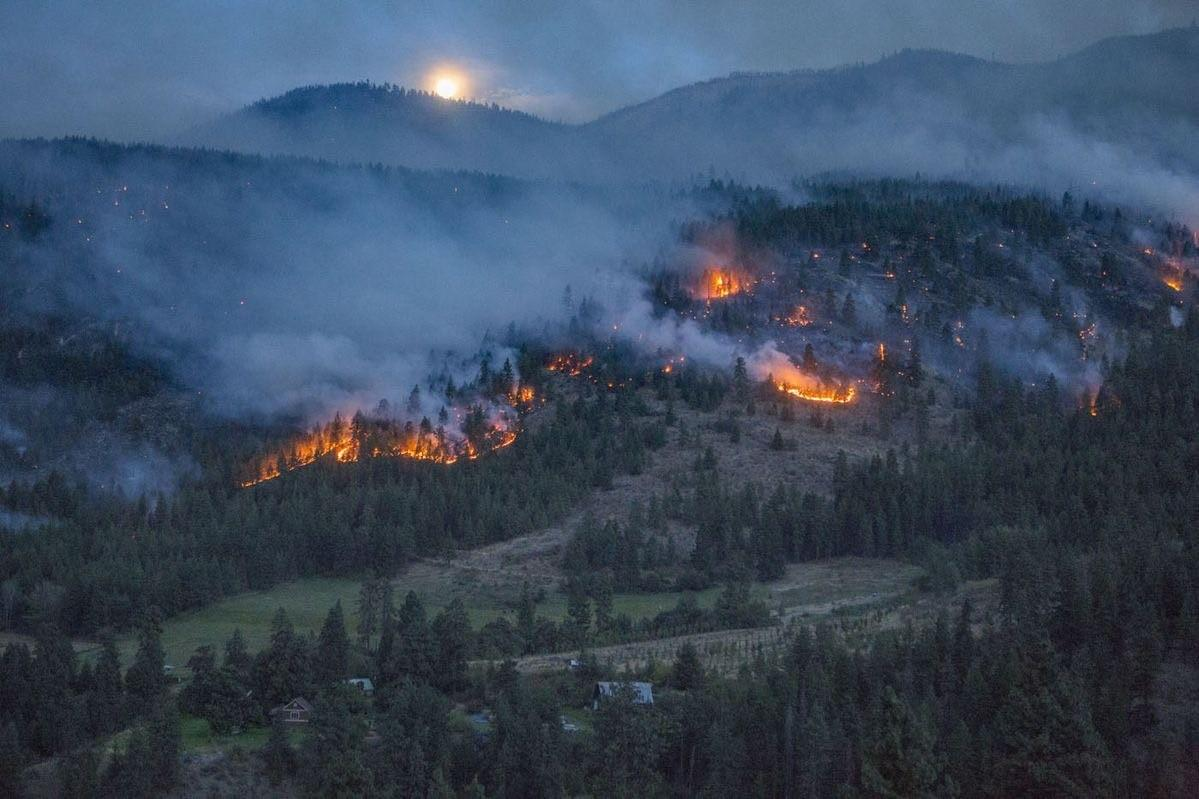fire: (221, 390, 522, 501), (670, 241, 772, 315), (537, 336, 630, 406), (768, 362, 866, 415), (1146, 256, 1199, 319), (483, 365, 550, 411), (1066, 374, 1123, 425), (800, 237, 831, 270), (884, 298, 918, 326), (656, 350, 682, 380), (869, 334, 892, 366)
smoke: (237, 175, 505, 400), (1011, 106, 1152, 231), (115, 437, 196, 523), (982, 315, 1052, 376), (423, 325, 497, 378), (753, 172, 824, 218), (698, 329, 751, 383)
